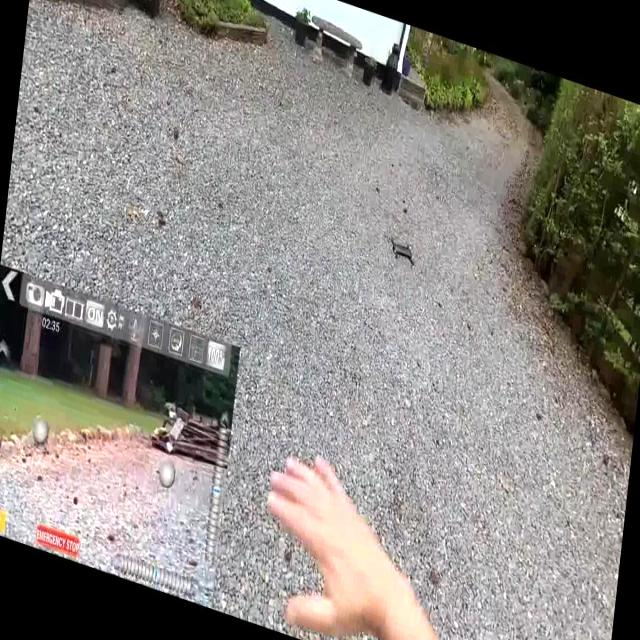drone: (382, 228, 422, 272)
